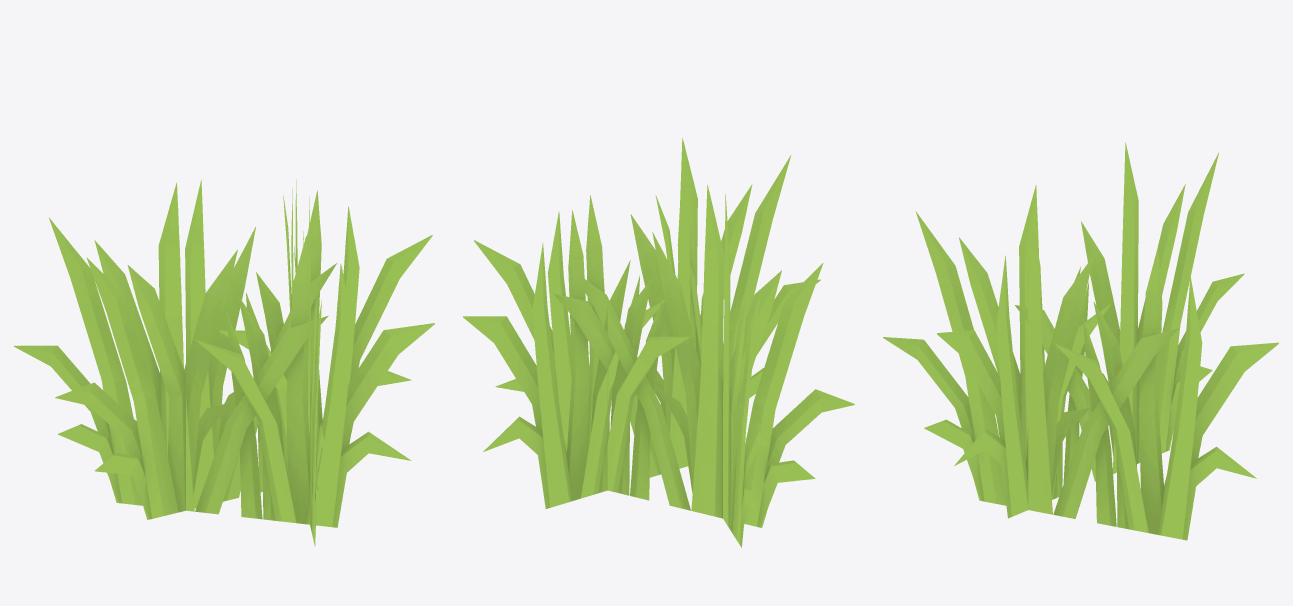
File: SM_Env_Grass_Tall_Clump_01.glb
3 renders of one model, left to right at view 1: azimuth 30°, elevation 25°; view 2: azimuth 150°, elevation 25°; view 3: azimuth 270°, elevation 25°, orthographic.
Parts seen in each view (by area): view 1: SM_Env_Grass_Tall_Clump_01; view 2: SM_Env_Grass_Tall_Clump_01; view 3: SM_Env_Grass_Tall_Clump_01.
Boxes of the visible parts, x1,y1,x2,y2 form: SM_Env_Grass_Tall_Clump_01: (14, 179, 434, 545); SM_Env_Grass_Tall_Clump_01: (463, 138, 854, 547); SM_Env_Grass_Tall_Clump_01: (883, 142, 1278, 540).
Size of the model in its own units: 1 by 1 by 0.9104.
Materials: 1 (1 with a texture image).
